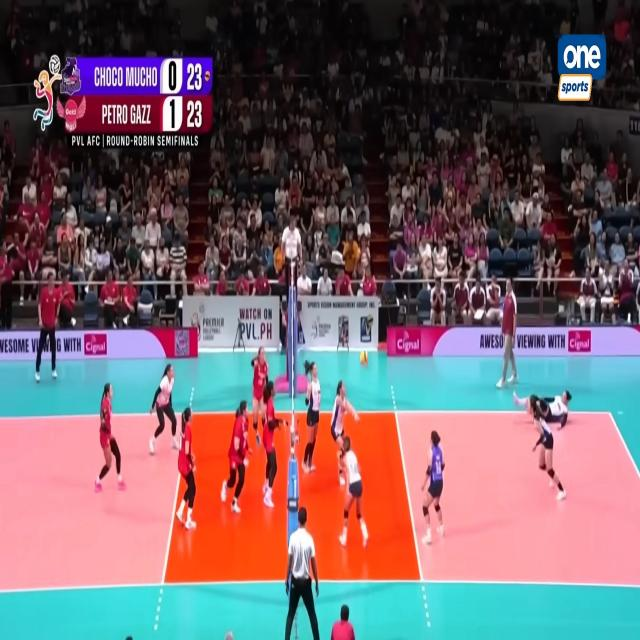Volleyball-Ball: (360, 351, 368, 366)
